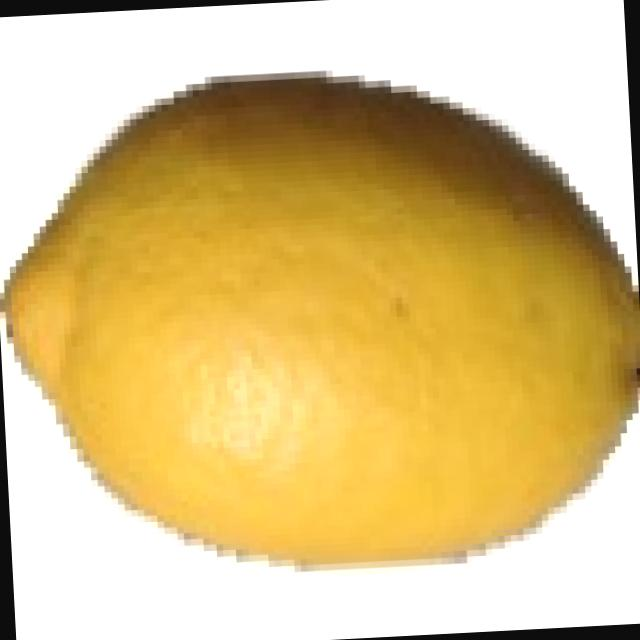mango: (0, 16, 640, 607)
